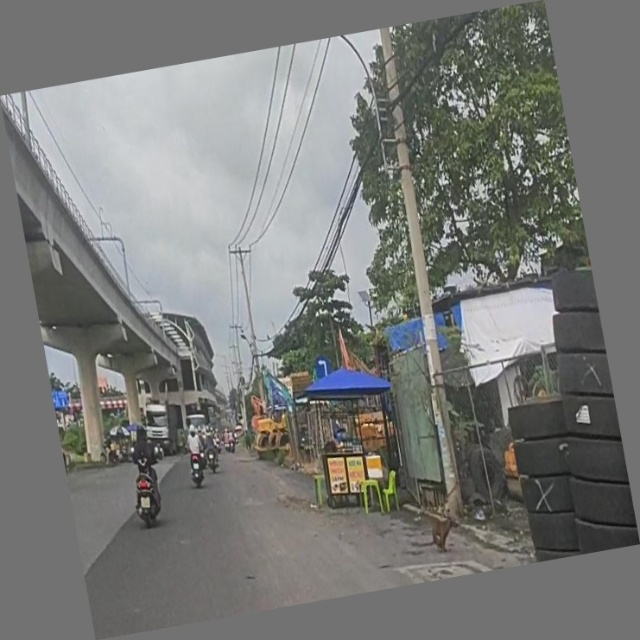R.301e: (314, 355, 332, 381)
